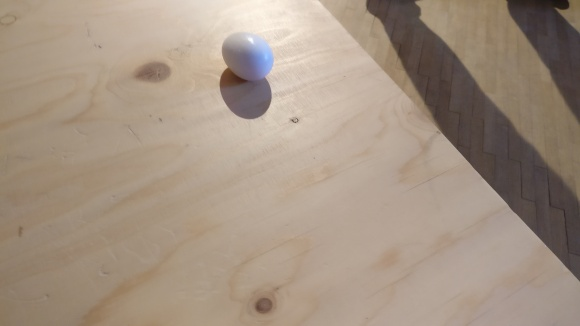egg: (222, 31, 273, 82)
